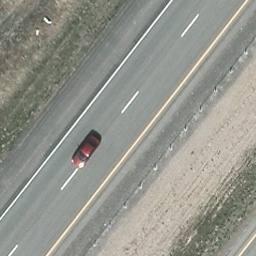car: (70, 132, 102, 170)
